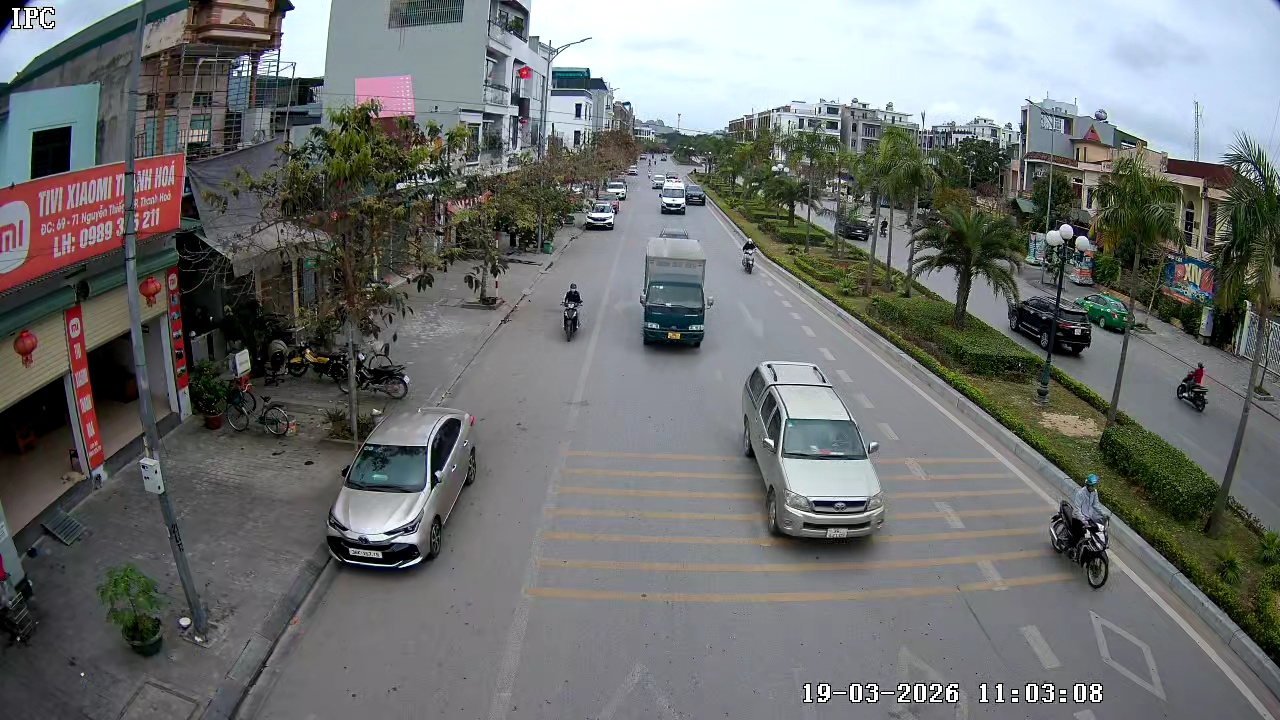car: (742, 360, 888, 539), (325, 405, 478, 570), (583, 199, 618, 231), (658, 180, 688, 215), (678, 180, 707, 209)
motorbike: (1050, 473, 1115, 590), (354, 337, 411, 399), (1174, 360, 1212, 414), (559, 281, 584, 341), (741, 238, 757, 274)
truck: (640, 229, 714, 348)
